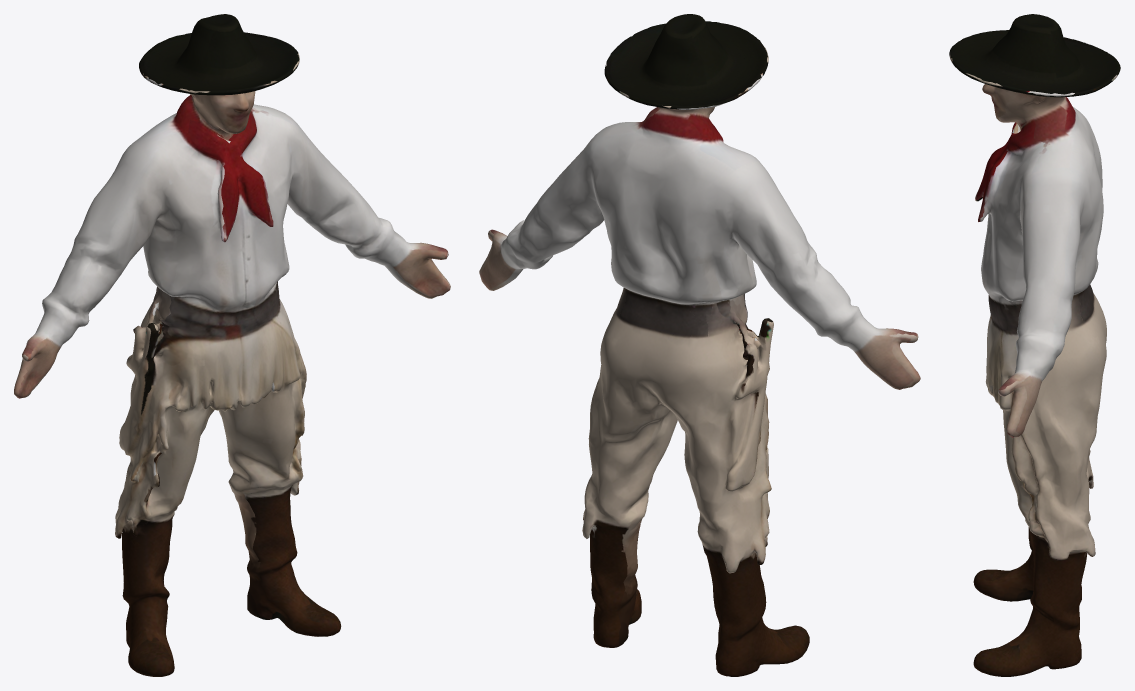
File: paisano_rig.glb
3 renders of one model, left to right at view 1: azimuth 30°, elevation 25°; view 2: azimuth 150°, elevation 25°; view 3: azimuth 270°, elevation 25°, orthographic.
Parts seen in each view (by area): view 1: temp_mesh.ply; view 2: temp_mesh.ply; view 3: temp_mesh.ply.
Part boxes in pixels (x1=…): temp_mesh.ply: x1=14, y1=14, x2=450, y2=676; temp_mesh.ply: x1=479, y1=14, x2=920, y2=676; temp_mesh.ply: x1=949, y1=14, x2=1120, y2=676.
Size of the model in its own units: 1.28 by 1.74 by 0.4414.
Materials: 1 (1 with a texture image).
